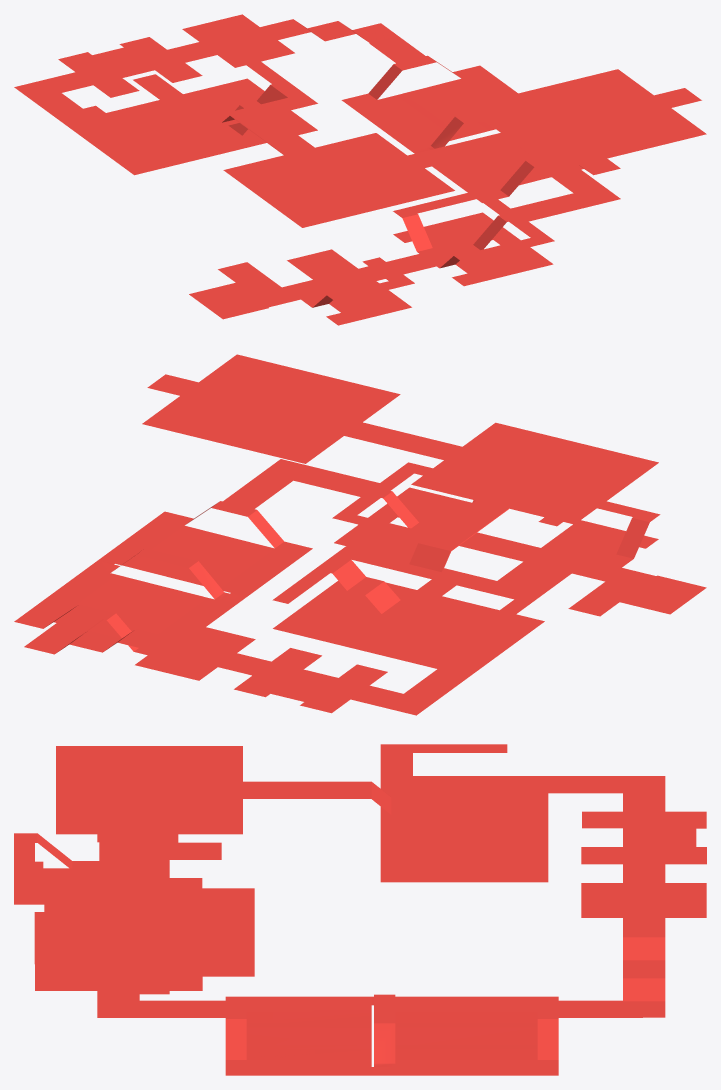
The model's file is npc_route_1105 1.fbx.
3 views of the same model, one above another, from view 1: azimuth 30°, elevation 25°; view 2: azimuth 150°, elevation 25°; view 3: azimuth 270°, elevation 25° (orthographic). The views are drawn at different scales.
Parts seen in each view (by area): view 1: npc_route_1024; view 2: npc_route_1024; view 3: npc_route_1024.
Boxes of the visible parts, left/top/right/bottom form: npc_route_1024: left=14, top=14, right=706, bottom=325; npc_route_1024: left=14, top=354, right=706, bottom=715; npc_route_1024: left=14, top=744, right=706, bottom=1075.
Bounding box in the file's own units: 9565 × 1654 × 9861.
